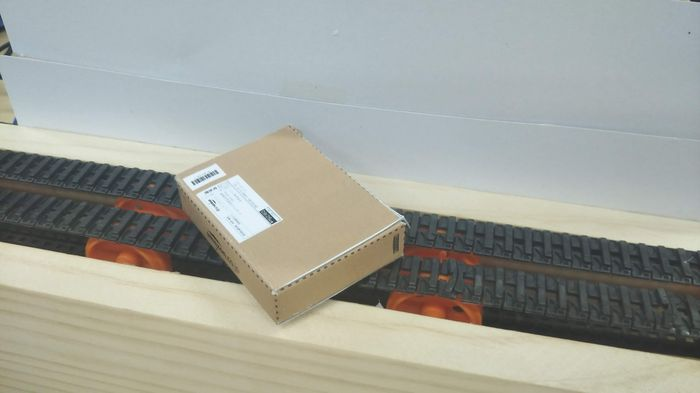box2: (171, 124, 409, 326)
